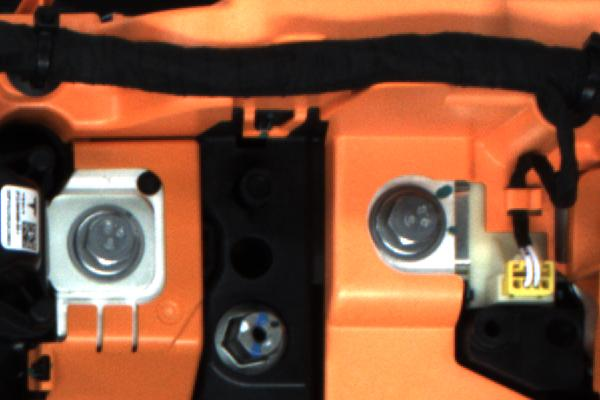nut_b: (360, 181, 448, 267), (64, 206, 160, 281)
